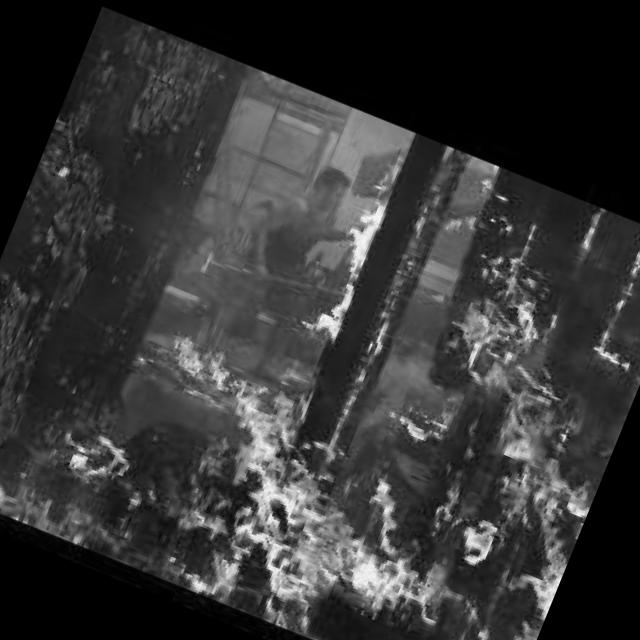fire: (66, 72, 640, 640)
